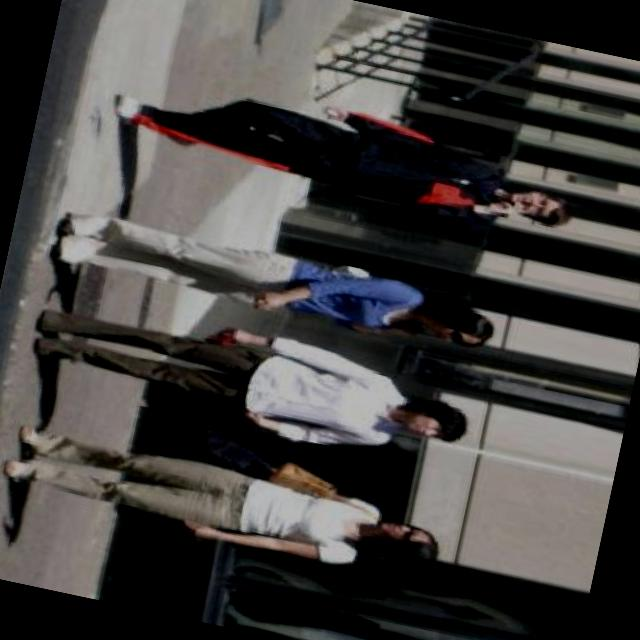Person: (100, 55, 582, 246), (22, 288, 480, 480), (0, 408, 448, 591), (40, 197, 505, 365)
